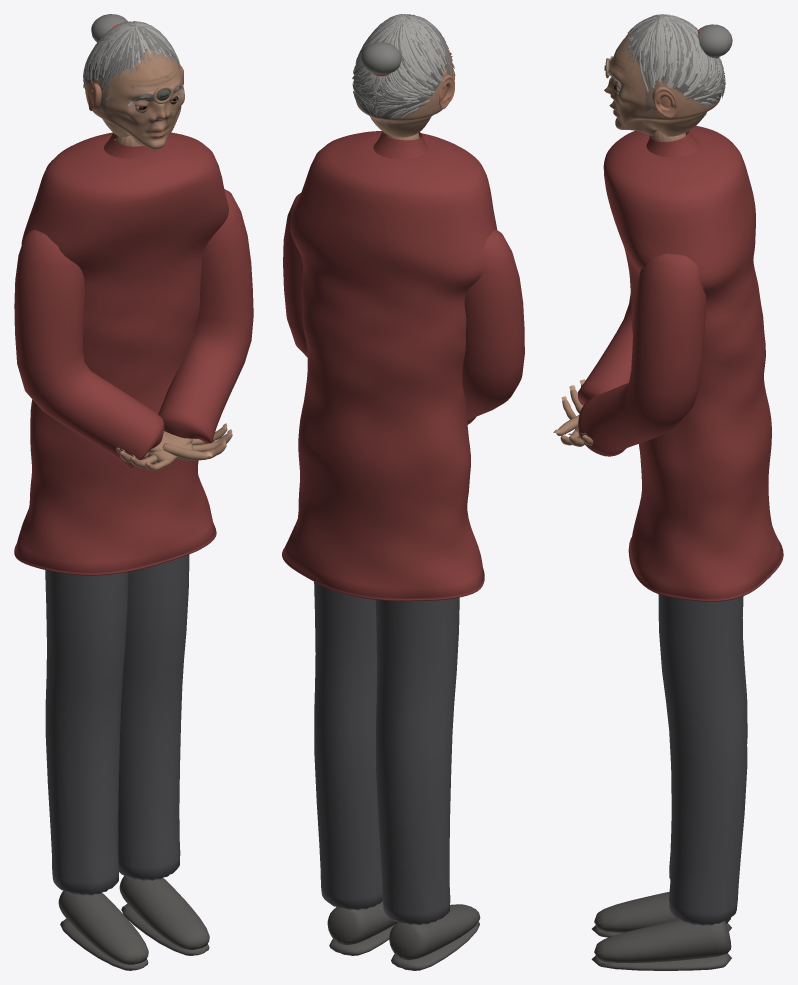
Rendered from matron.glb.
3 renders of one model, left to right at view 1: azimuth 30°, elevation 25°; view 2: azimuth 150°, elevation 25°; view 3: azimuth 270°, elevation 25°, orthographic.
Parts seen in each view (by area): view 1: Torso, LegL, LegR, SleeveL, SleeveR, Head, FootR, FootL, HairCards, HandL, HandR, Collar (+1 smaller); view 2: Torso, LegL, LegR, SleeveL, HairCards, FootL, FootR, Head, SleeveR, HairBun, Collar; view 3: Torso, LegR, SleeveR, FootR, HairCards, Head, SleeveL, FootL, HairBun, Collar, HandL, EarR.
Part boxes in pixels (x1,y1,x2,y2): Torso: (14, 132, 228, 575); LegL: (45, 570, 128, 895); LegR: (118, 554, 189, 880); SleeveL: (14, 229, 164, 468); SleeveR: (158, 189, 253, 443); Head: (85, 44, 184, 149); FootR: (119, 875, 209, 955); FootL: (58, 891, 148, 970); HairCards: (83, 21, 182, 116); HandL: (149, 427, 232, 460); HandR: (116, 431, 192, 470); Collar: (104, 132, 157, 158); Torso: (282, 131, 497, 601); LegL: (375, 597, 459, 925); LegR: (314, 582, 382, 910); SleeveL: (462, 230, 524, 424); HairCards: (352, 14, 453, 129); FootL: (389, 904, 480, 970); FootR: (327, 901, 397, 955); Head: (354, 47, 455, 137); SleeveR: (283, 193, 307, 357); HairBun: (361, 42, 401, 74); Collar: (373, 131, 427, 159); Torso: (603, 125, 783, 601); LegR: (658, 594, 747, 925); SleeveR: (578, 253, 706, 456); FootR: (591, 920, 731, 970); HairCards: (625, 14, 725, 120); Head: (604, 28, 722, 136); SleeveL: (578, 293, 632, 405); FootL: (592, 891, 731, 937); HairBun: (698, 24, 732, 57); Collar: (646, 130, 699, 157); HandL: (556, 414, 593, 446); EarR: (652, 86, 676, 117).
Bounding box in the file's own units: 0.412 × 1.57 × 0.3522.
Materials: 16 (2 with a texture image).
